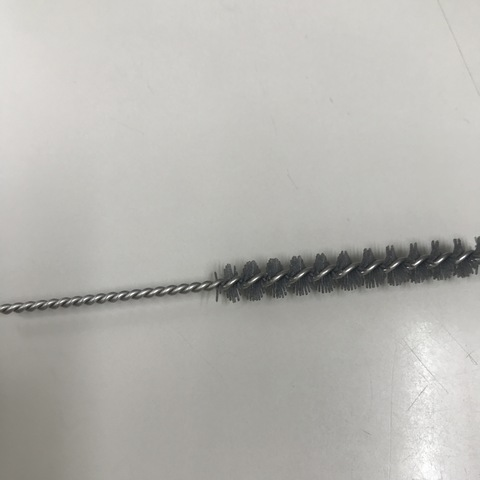Twist Brush-A: (1, 232, 478, 326)
